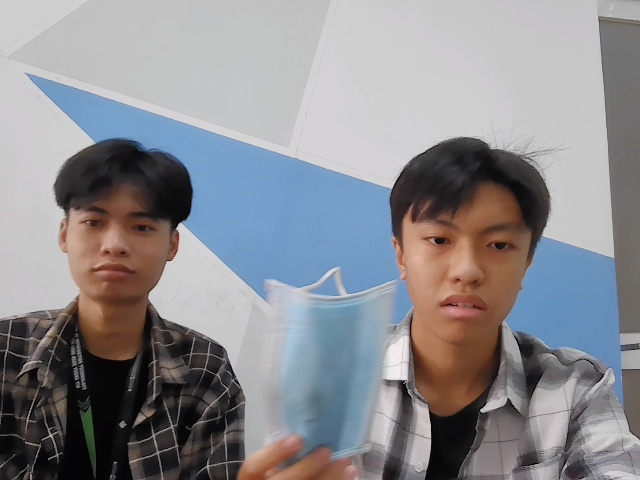human: (392, 138, 552, 340), (58, 138, 194, 303)
mask: (260, 273, 395, 463)
